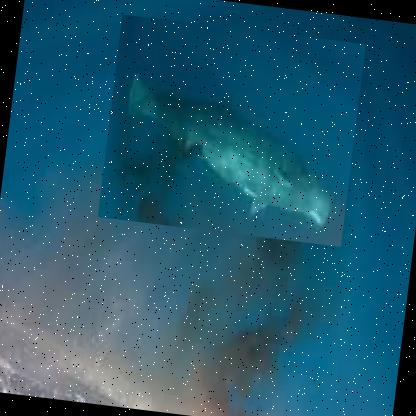sperm_whale: (96, 13, 365, 246)
